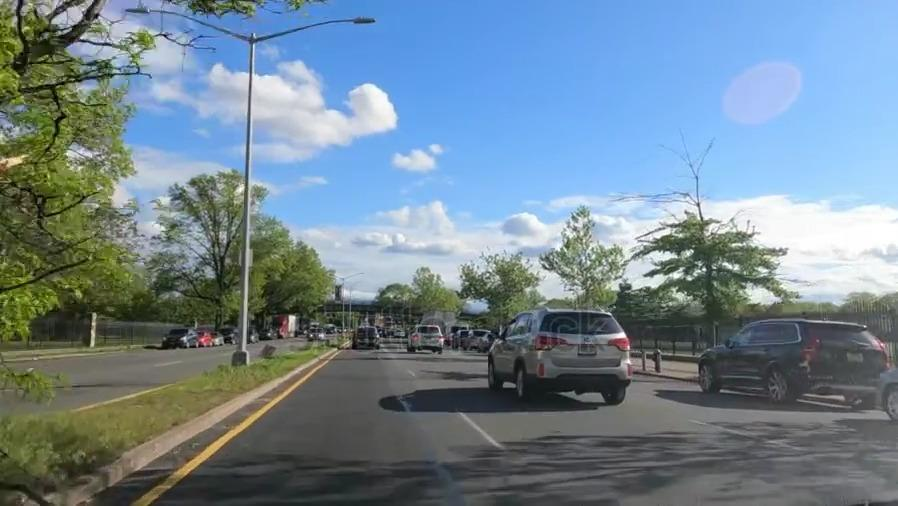car: (695, 317, 872, 411), (485, 311, 628, 394), (409, 323, 442, 355), (162, 327, 195, 351), (357, 324, 381, 351), (211, 332, 222, 349), (197, 331, 209, 346)
wheel: (756, 362, 794, 404), (694, 358, 716, 391)
